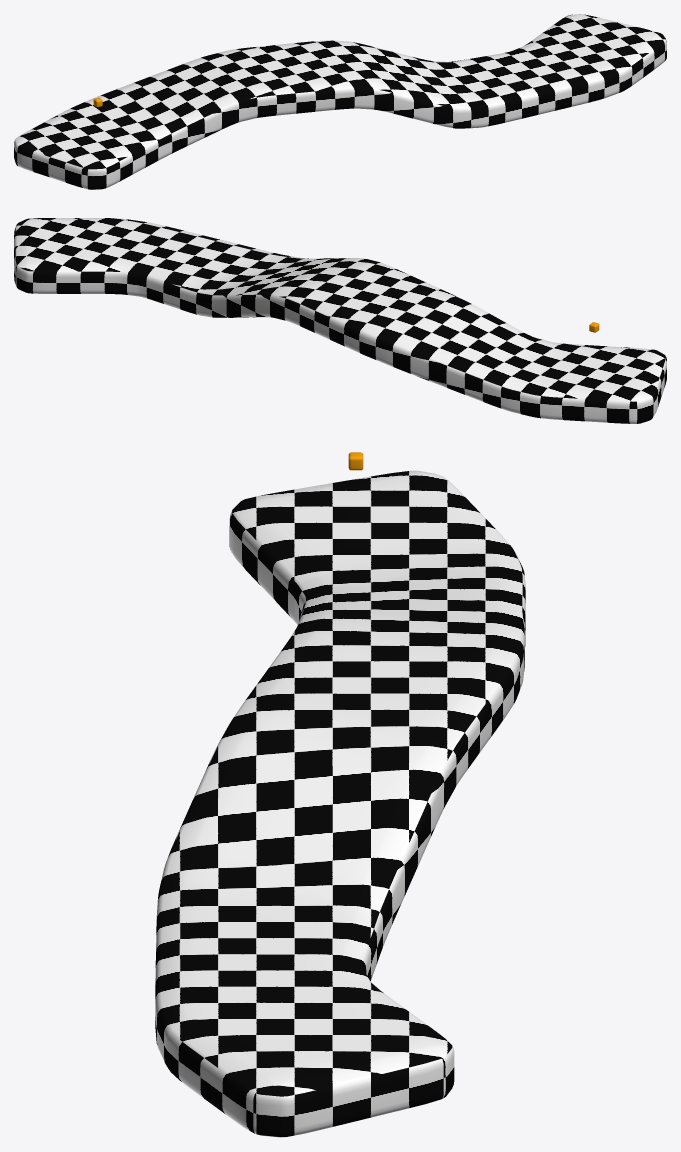
3 renders of one model, top to bottom at view 1: azimuth 30°, elevation 25°; view 2: azimuth 150°, elevation 25°; view 3: azimuth 270°, elevation 25°, orthographic. The views are drawn at different scales.
Visible parts, largest first — view 1: cube1; view 2: cube1; view 3: cube1.
Boxes of the visible parts, <box> form: cube1: <box>14,14,666,189</box>; cube1: <box>14,218,666,423</box>; cube1: <box>155,470,525,1137</box>.
Bounding box in the file's own units: 2377 × 290 × 621.
Materials: 2 (1 with a texture image).
